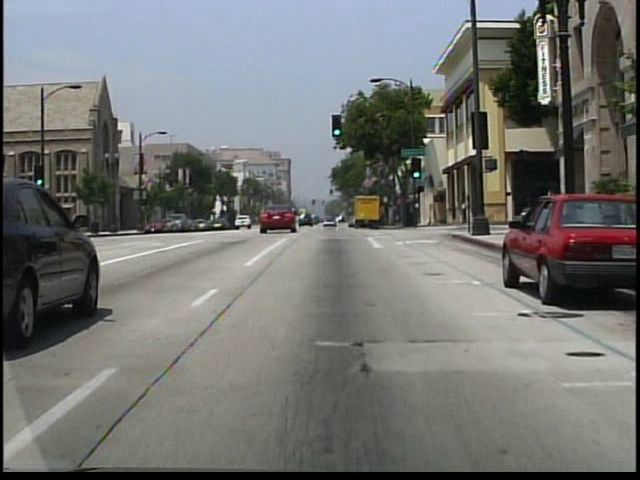person: (462, 199, 468, 227)
